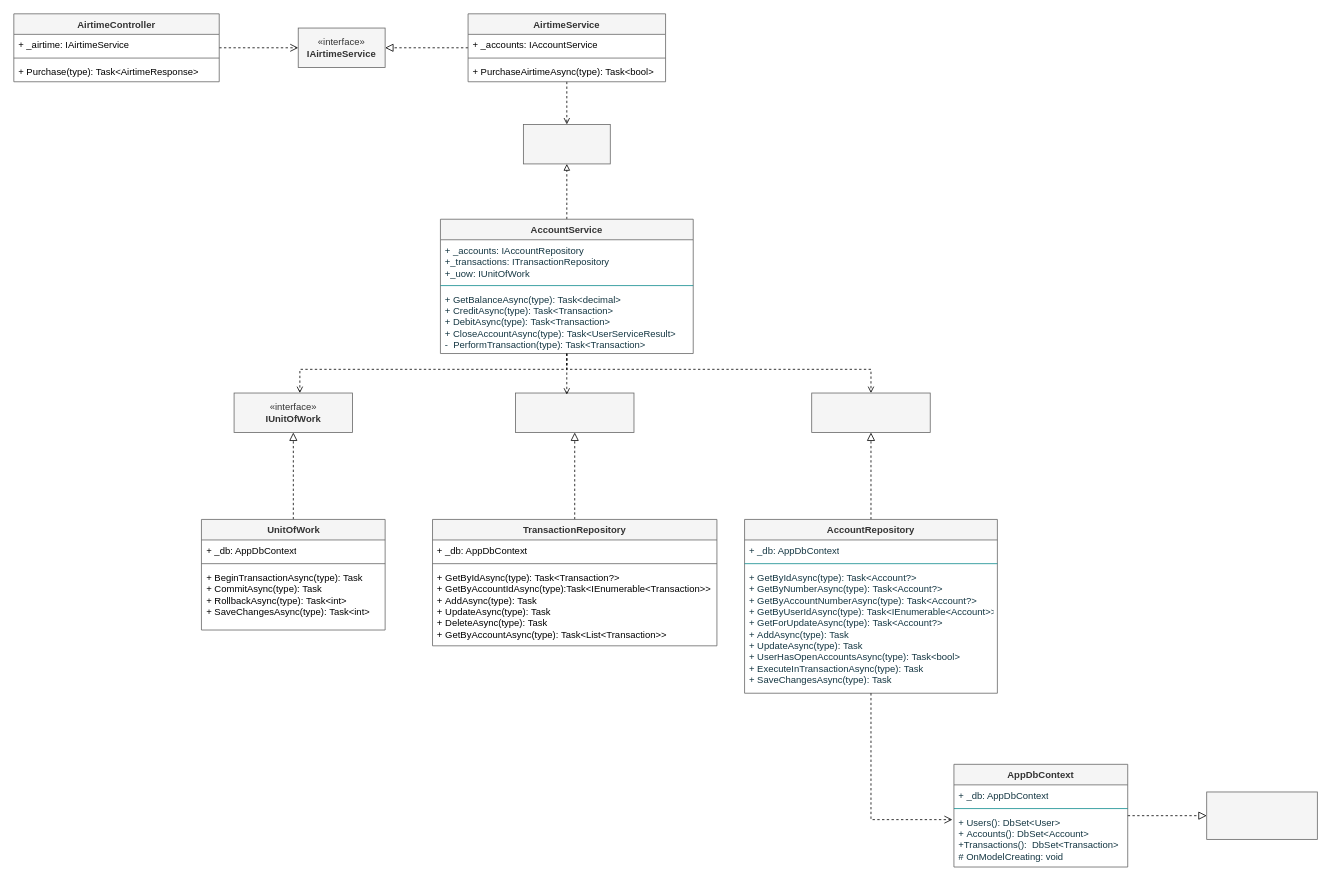
Some shapes in this 1331 by 883 pixel diagram are drawn without their labels. The shapes that lost their labels are listed below. From the top down, each one's centre as x and y in pixels, then its label:
At (566,144): "«interface» IAccountService".
At (574,412): "«interface» ITransactionRepository".
At (870,412): "«interface» IAccountRepository".
At (1261,815): "DbContext".
